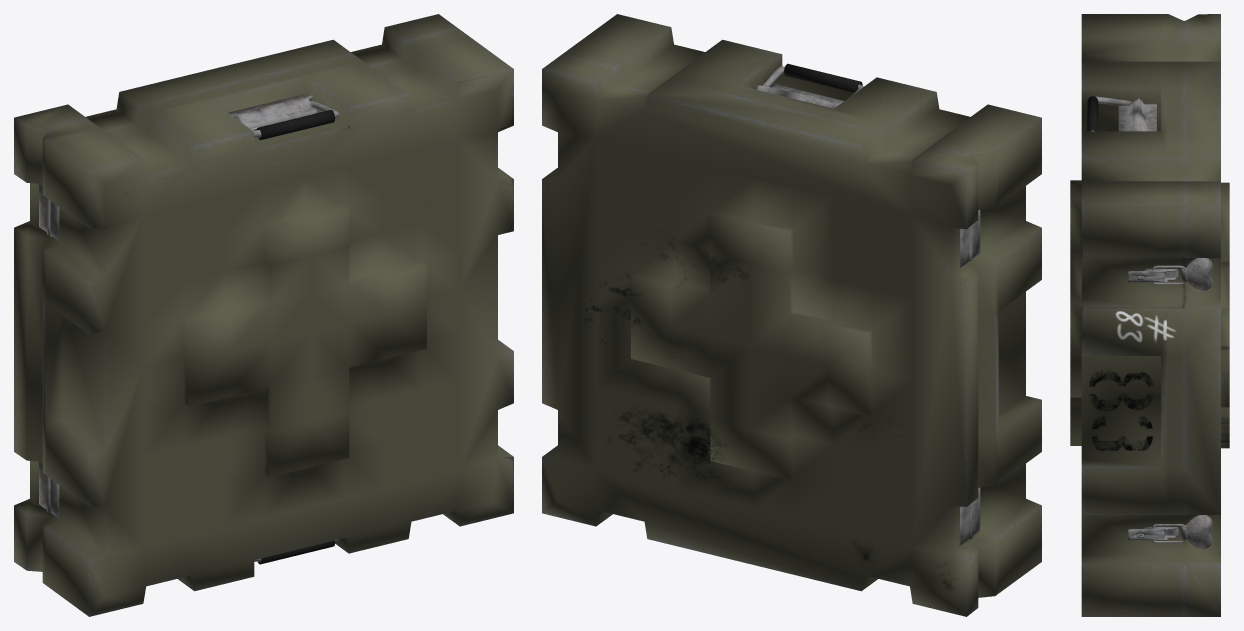
The model's file is MedBoxComplete.fbx.
3 views of the same model, side by side, from view 1: azimuth 30°, elevation 25°; view 2: azimuth 150°, elevation 25°; view 3: azimuth 270°, elevation 25° (orthographic). The views are drawn at different scales.
Parts seen in each view (by area): view 1: fullbody; view 2: fullbody; view 3: fullbody.
Part boxes in pixels (left/top/right/bottom): fullbody: left=14, top=14, right=513, bottom=616; fullbody: left=542, top=14, right=1041, bottom=616; fullbody: left=1070, top=14, right=1229, bottom=616.
Bounding box in the file's own units: 406 × 406 × 142.
